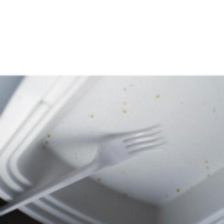foam_box: (0, 76, 224, 223)
